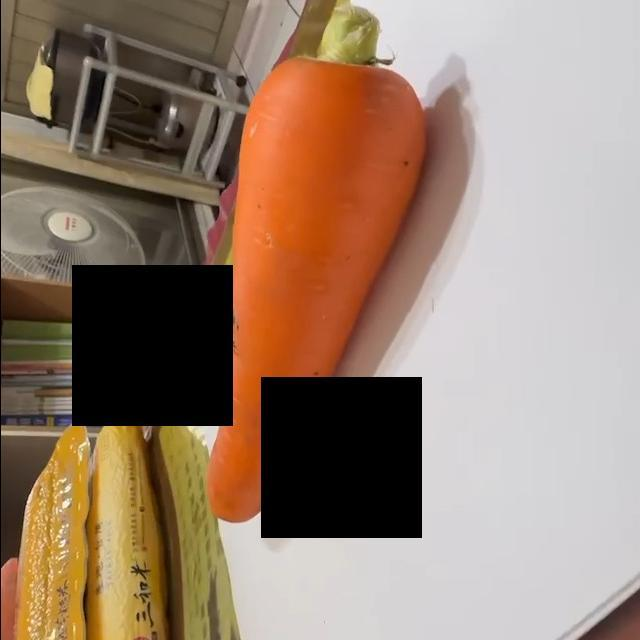carrot: (202, 4, 433, 525)
